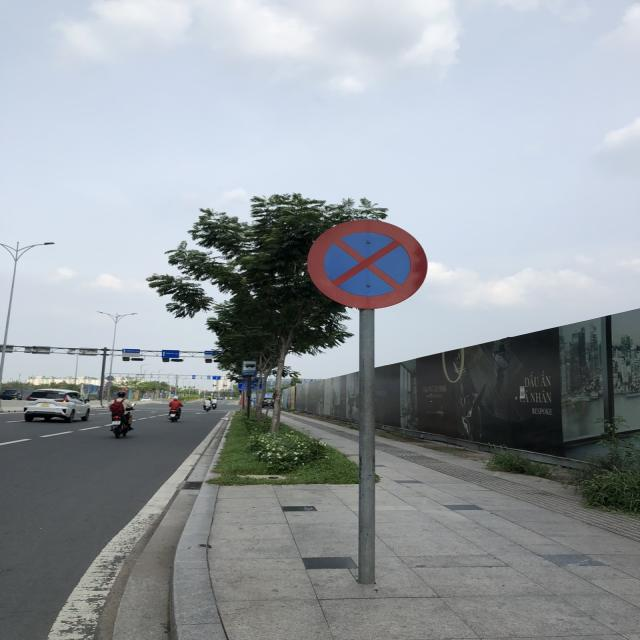Bien bao cam dung xe va do xe: (296, 209, 434, 318)
